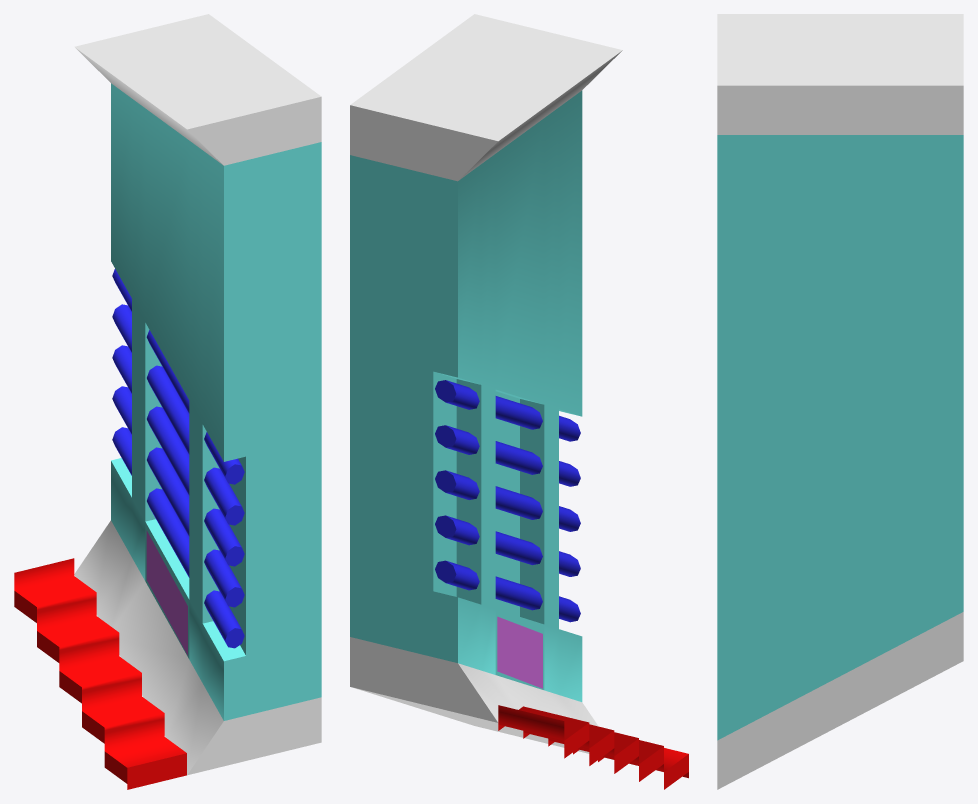
File: Wall-BaseAngledTall.fbx
3 renders of one model, left to right at view 1: azimuth 30°, elevation 25°; view 2: azimuth 150°, elevation 25°; view 3: azimuth 270°, elevation 25°, orthographic. The views are drawn at different scales.
Parts seen in each view (by area): view 1: BaseAngledTall; view 2: BaseAngledTall; view 3: BaseAngledTall.
Part boxes in pixels (x1,y1,x2,y2): BaseAngledTall: [14, 14, 321, 789]; BaseAngledTall: [350, 14, 688, 789]; BaseAngledTall: [717, 14, 963, 789].
Size of the model in its own units: 78.28 by 248 by 78.74.
